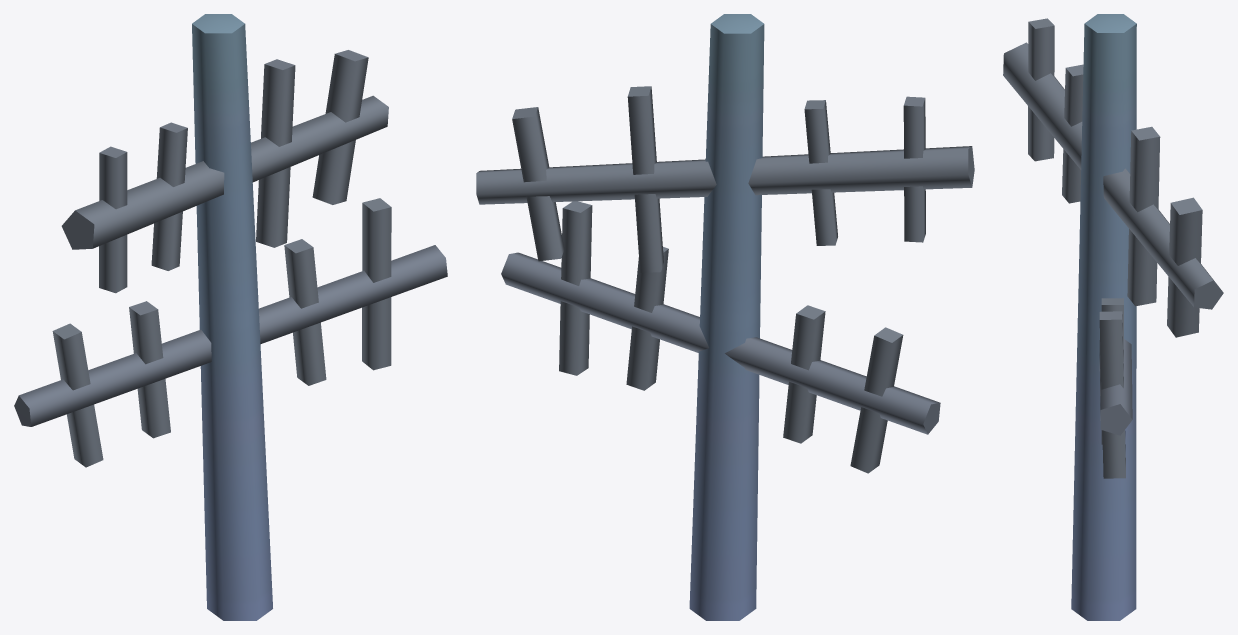
File: Antene_1_A_1.fbx
3 renders of one model, left to right at view 1: azimuth 30°, elevation 25°; view 2: azimuth 150°, elevation 25°; view 3: azimuth 270°, elevation 25°, orthographic. The views are drawn at different scales.
Visible parts, largest first — view 1: Antene_1_A_1; view 2: Antene_1_A_1; view 3: Antene_1_A_1.
Boxes of the visible parts, x1=… form: Antene_1_A_1: x1=14, y1=14, x2=447, y2=620; Antene_1_A_1: x1=476, y1=14, x2=974, y2=620; Antene_1_A_1: x1=1003, y1=14, x2=1223, y2=620.
Bounding box in the file's own units: 67.19 × 90.15 × 31.08.
